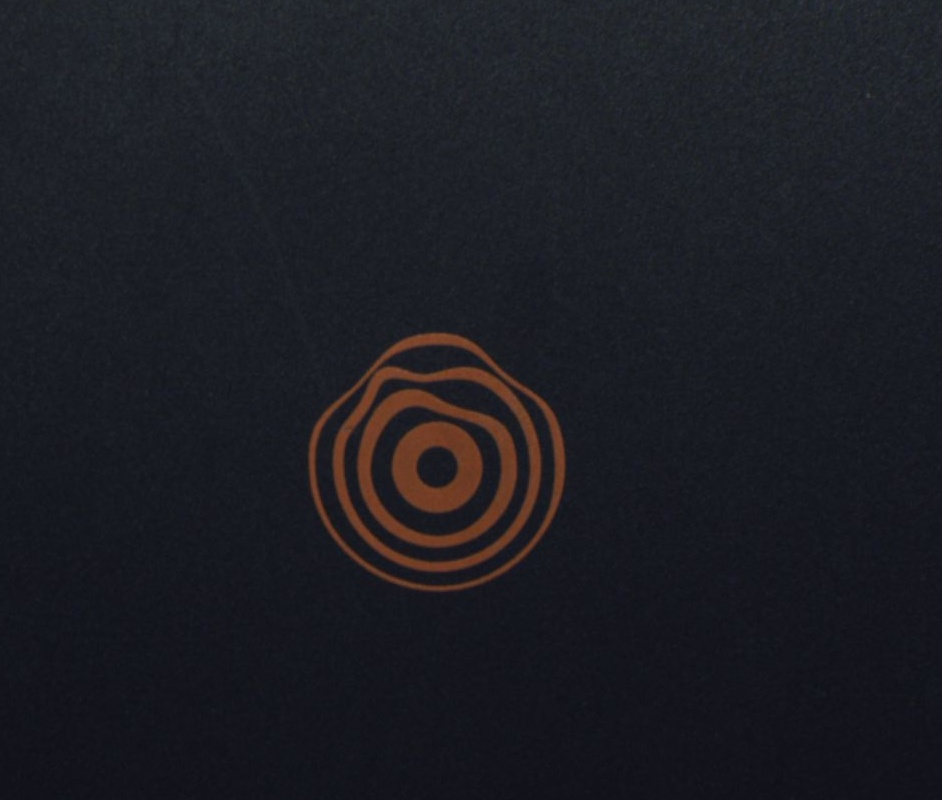BU_HG680GY: (287, 326, 576, 595)
